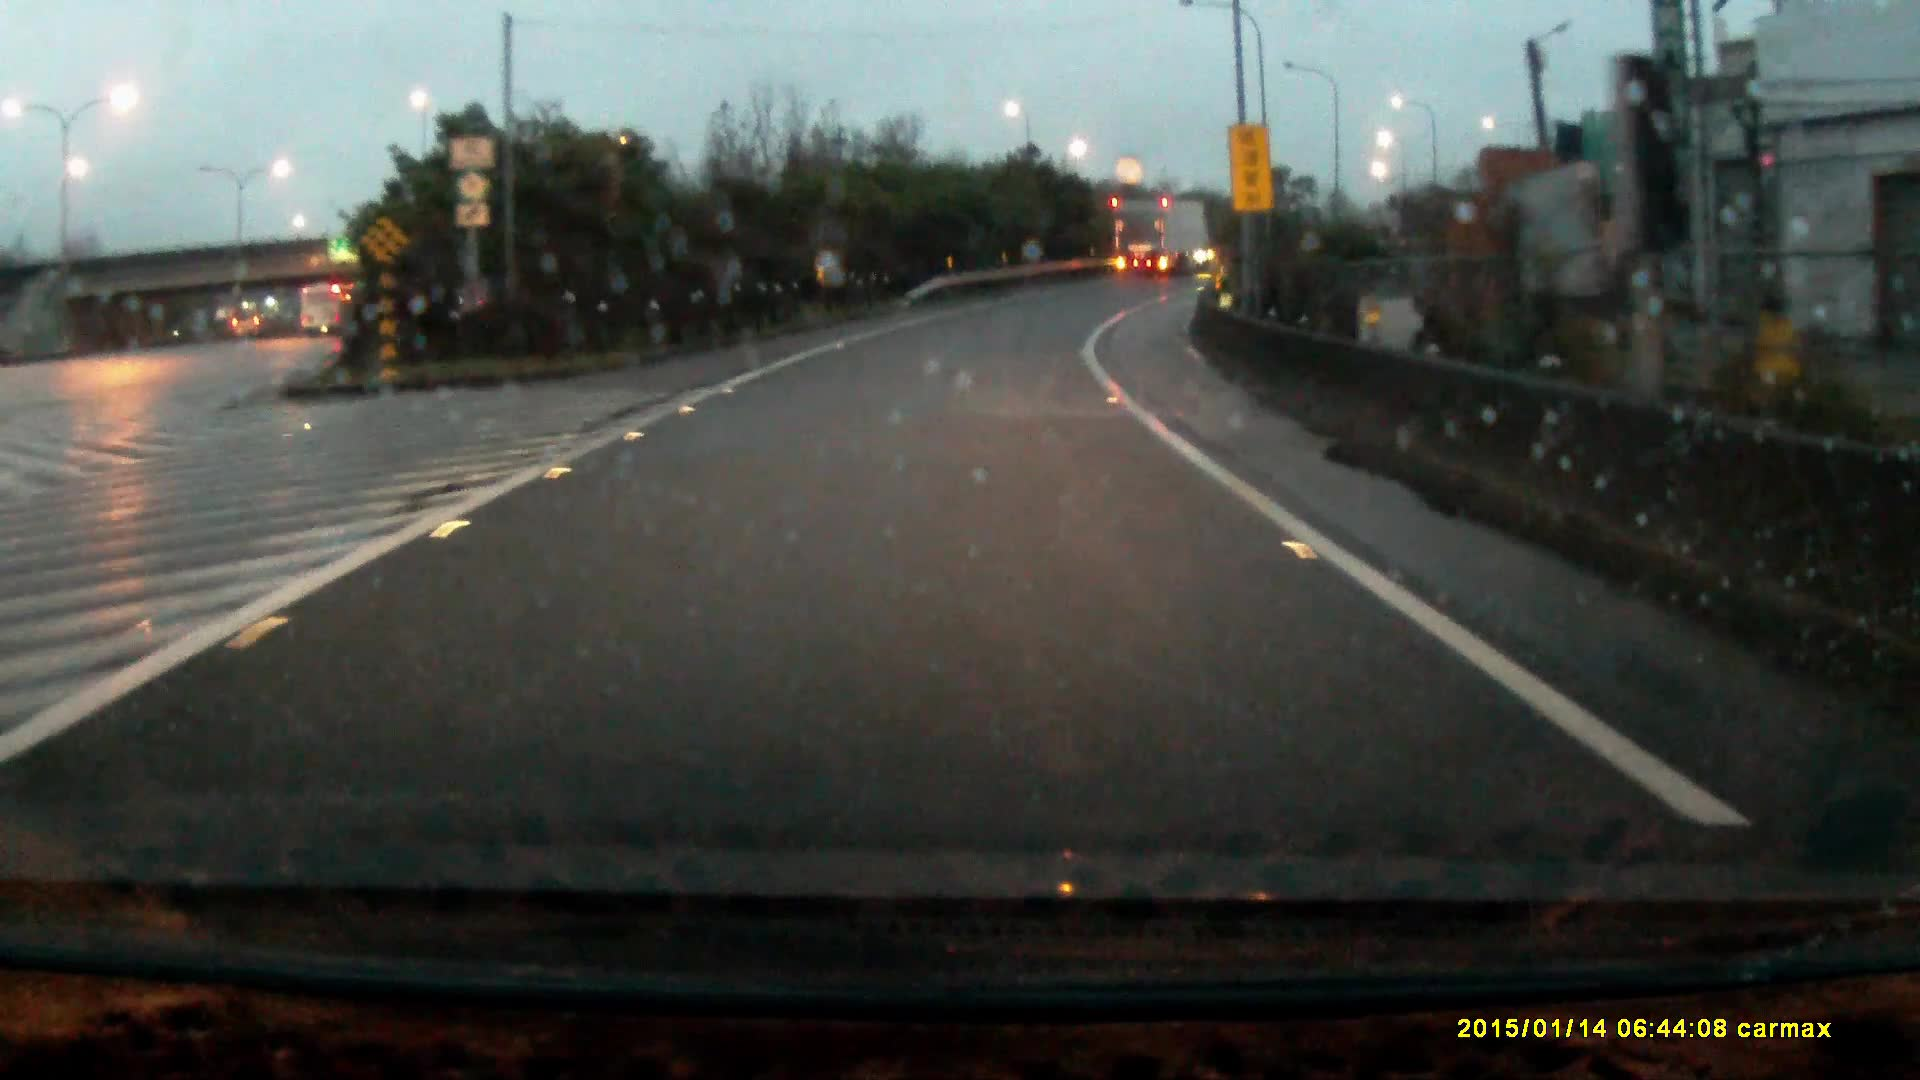vehicle: (1112, 199, 1212, 281), (232, 311, 269, 342)
